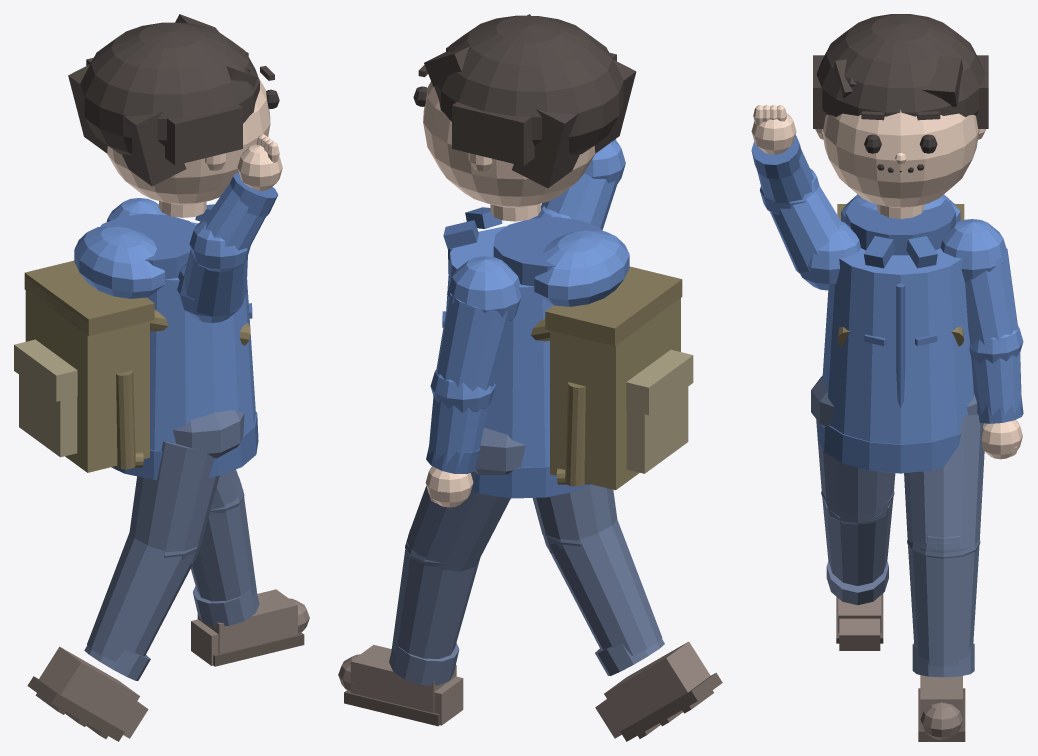
The model's file is 42-kid-with-backpack.glb.
The picture shows the model from 3 angles, left to right: view 1: azimuth 30°, elevation 25°; view 2: azimuth 150°, elevation 25°; view 3: azimuth 270°, elevation 25°; orthographic projection. The views are drawn at different scales.
Parts seen in each view (by area): view 1: HairCap, HoodieBody, PackBody, LegR_Shin, LegR_Thigh, Hood, PackTopStrap, LegL_Shin, Head, ShoeR_Foot, HairSideR, HairBack (+22 smaller); view 2: HairCap, PackBody, HoodieBody, LegR_Shin, LegL_Shin, Head, PackTopStrap, Hood, LegL_Thigh, SleeveL_Upper, ShoeR_Foot, HairSideL (+24 smaller); view 3: HoodieBody, HairCap, Head, LegL_Shin, LegL_Thigh, HemBand, LegR_Shin, HoodRim, SleeveL_Upper, LegR_Thigh, SleeveR_Upper, ShoulderL (+27 smaller).
Part boxes in pixels (x1,y1,x2,y2): HairCap: (80,22,259,154); HoodieBody: (147,222,255,450); PackBody: (25,278,149,472); LegR_Shin: (87,532,197,661); LegR_Thigh: (129,441,219,552); Hood: (74,226,165,298); PackTopStrap: (24,260,154,336); LegL_Shin: (191,489,257,601); Head: (107,78,270,204); ShoeR_Foot: (39,646,139,728); HairSideR: (165,104,242,165); HairBack: (68,64,186,186); HairCap: (434,15,623,154); PackBody: (550,298,680,490); HoodieBody: (446,226,553,467); LegR_Shin: (545,519,662,655); LegL_Shin: (391,541,480,658); Head: (423,81,595,207); PackTopStrap: (545,266,682,346); Hood: (534,230,629,306); LegL_Thigh: (408,471,510,571); SleeveL_Upper: (436,293,512,391); ShoeR_Foot: (604,641,710,727); HairSideL: (452,102,534,166); HoodieBody: (822,248,973,444); HairCap: (816,14,984,117); Head: (822,109,979,208); LegL_Shin: (908,545,979,666); LegL_Thigh: (904,414,984,543); HemBand: (817,422,961,473); LegR_Shin: (822,498,893,585); HoodRim: (845,199,955,255); SleeveL_Upper: (965,248,1017,344); LegR_Thigh: (816,419,895,514); SleeveR_Upper: (770,186,842,272); ShoulderL: (940,219,1008,282).
Bounding box in the file's own units: 0.8659 × 1.78 × 0.6655.
